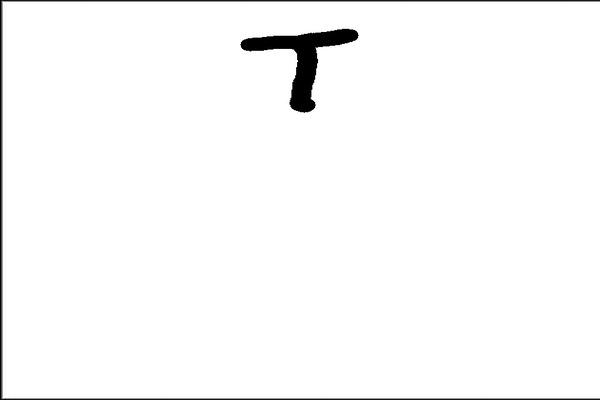T: (234, 22, 366, 120)
